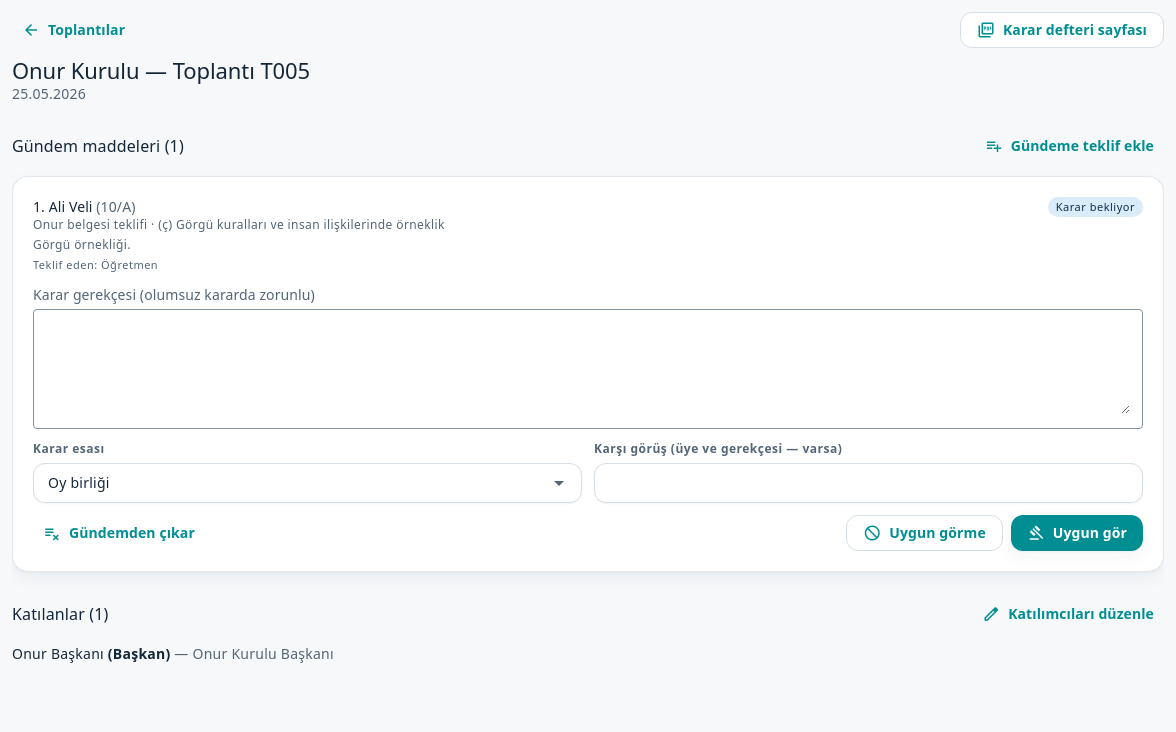
Test case: ToplantiDetay › Onur Kurulu: uygun görmeme gerekçesiz verilmez; uygun görüş kaydedilir
The width and height of the screenshot is (1176, 732).
Expected: the heading "Onur Kurulu — Toplantı T005" is shown, [12, 56, 310, 84]
Click the button "Uygun görme" at (925, 533), box [846, 515, 1003, 551]
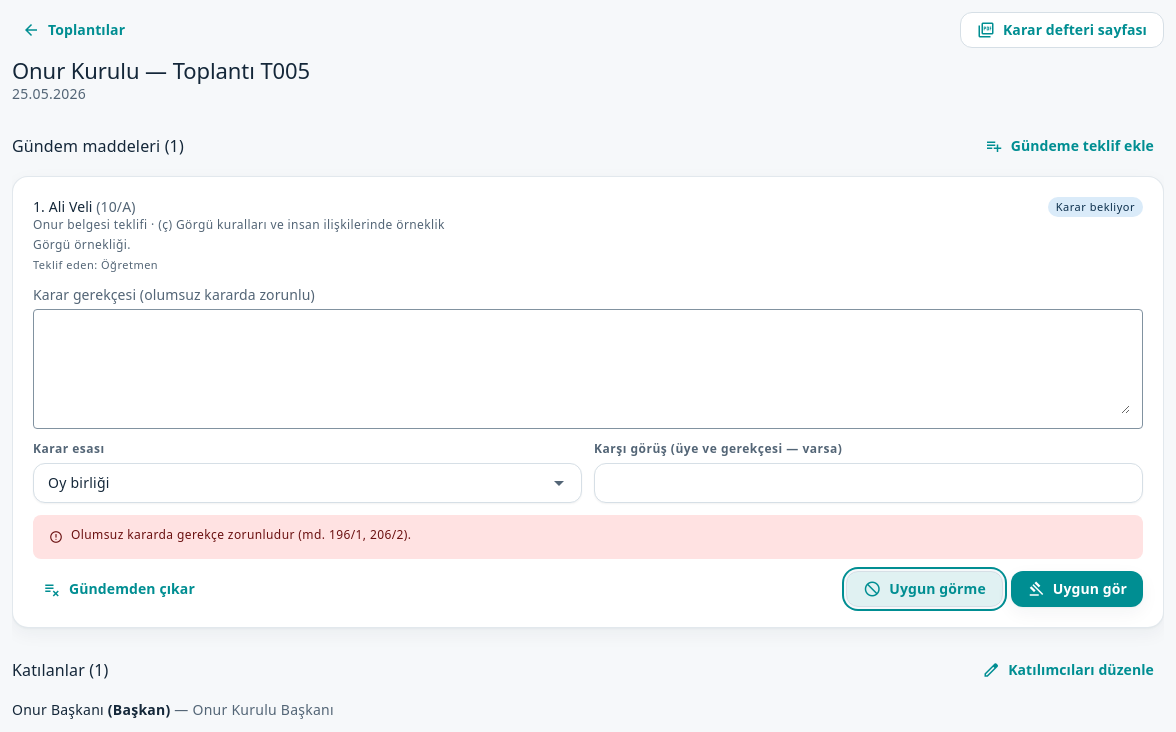
Expected: the text "Olumsuz kararda gerekçe zorunludur (md. 196/1, 206/2)." is shown, [71, 527, 412, 543]
Click the button "Uygun gör" at (1077, 589), box [1011, 571, 1143, 607]
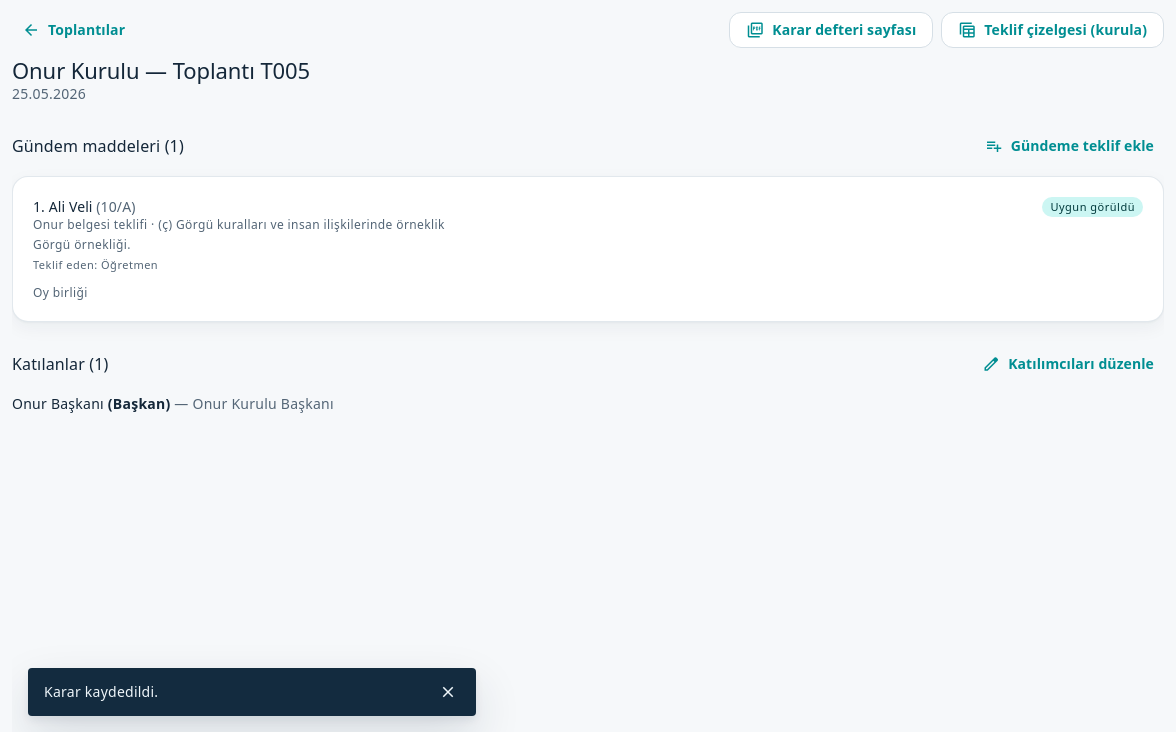
Expected: the text "Uygun görüldü" is shown, [1042, 197, 1143, 217]
Expected: the button "Teklif çizelgesi (kurula)" is shown, [941, 12, 1164, 48]
